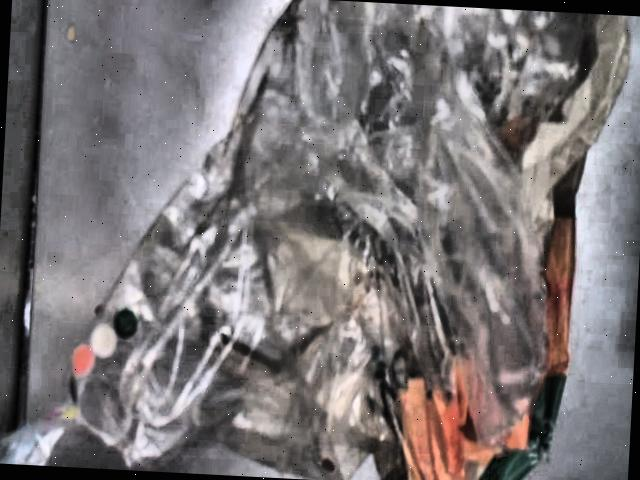Plastic: (0, 0, 636, 480)
